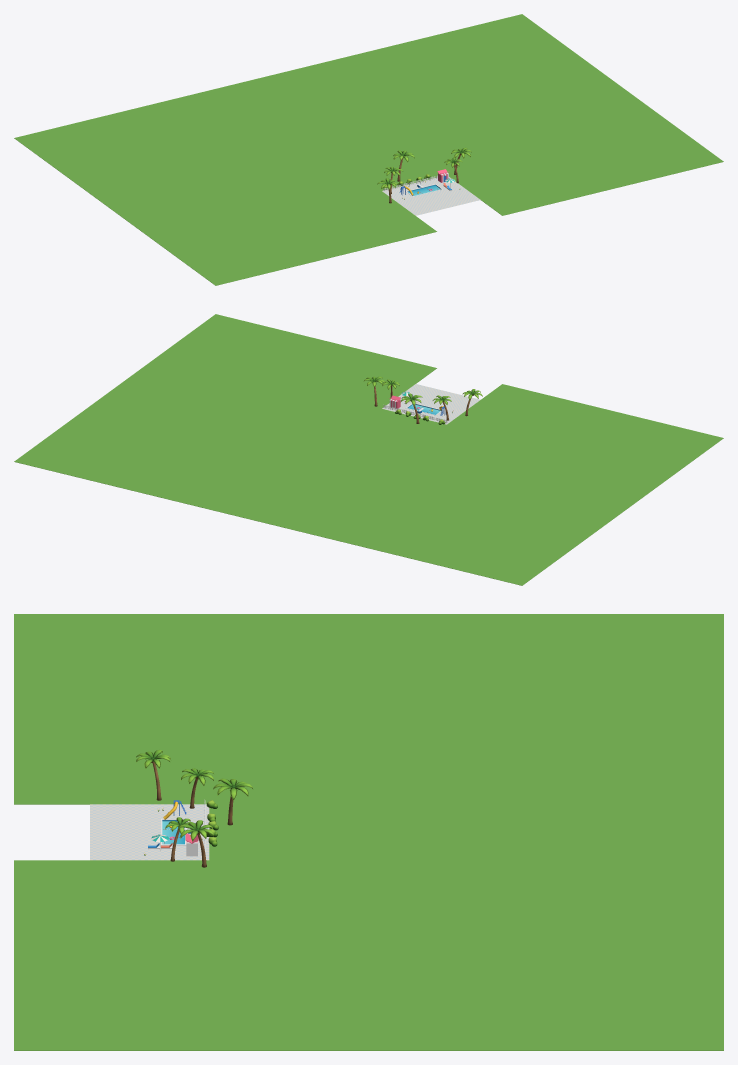
File: pool.glb
3 views of the same model, one above another, from view 1: azimuth 30°, elevation 25°; view 2: azimuth 150°, elevation 25°; view 3: azimuth 270°, elevation 25° (orthographic). The views are drawn at different scales.
Visible parts, largest first — view 1: Lawn, LawnL, LawnR, Floor; view 2: Lawn, LawnL, LawnR, Floor; view 3: Lawn, LawnR, LawnL, Floor.
Part boxes in pixels (bbox=[...]): Lawn: bbox=[14, 14, 667, 244]; LawnL: bbox=[160, 191, 436, 285]; LawnR: bbox=[449, 121, 723, 215]; Floor: bbox=[382, 177, 480, 215]; Lawn: bbox=[14, 354, 668, 585]; LawnL: bbox=[447, 384, 723, 478]; LawnR: bbox=[160, 314, 436, 408]; Floor: bbox=[382, 384, 480, 424]; Lawn: bbox=[209, 614, 723, 1050]; LawnR: bbox=[14, 860, 209, 1050]; LawnL: bbox=[14, 614, 209, 804]; Floor: bbox=[90, 804, 209, 860].
Bounding box in the file's own units: 160 × 8.7 × 110.
